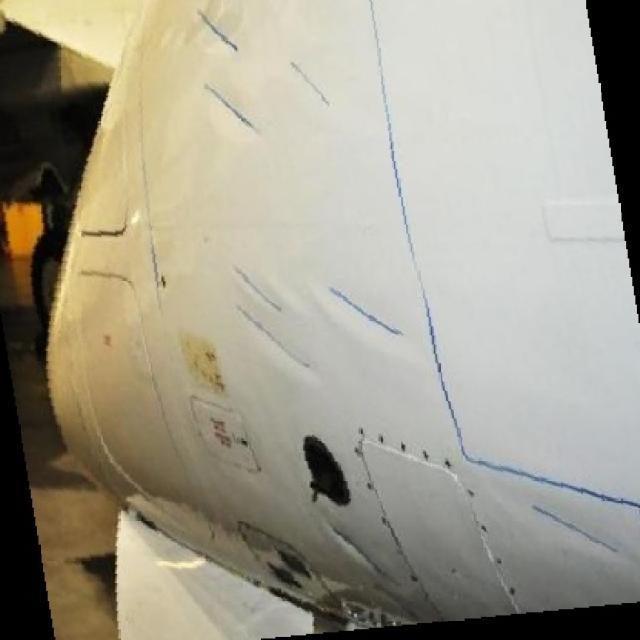dent: (232, 297, 317, 388), (512, 489, 622, 558), (309, 272, 414, 343), (320, 511, 397, 586), (224, 253, 286, 316), (212, 89, 263, 140), (197, 9, 240, 54)
